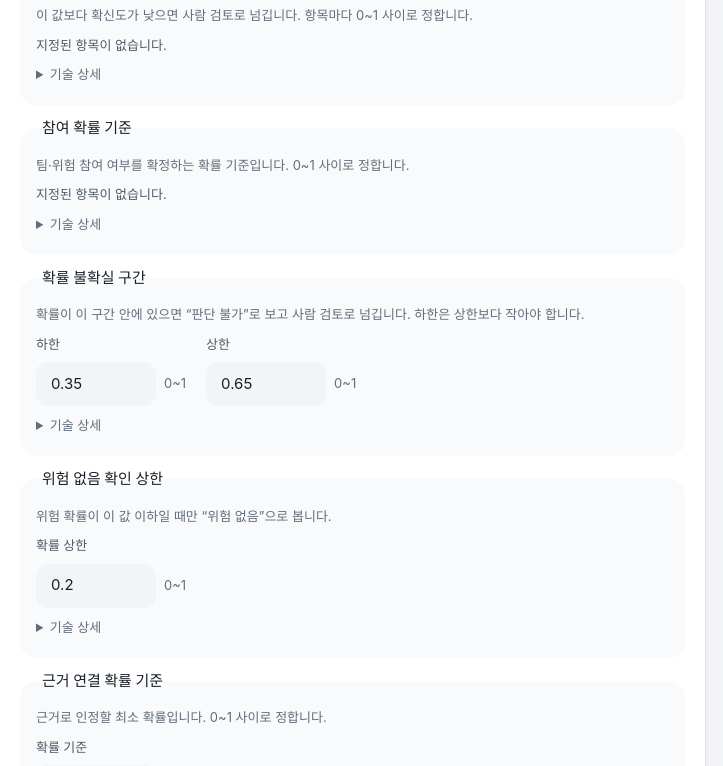
Test case: Policy page › field form › shows the allowed range and warns when the band is inverted
This screenshot has width=723, height=766.
(page scrolled)
Replace the text in the number field labelled "하한" with "0.9" at [96, 384], box top-left (36, 362), bottom-right (156, 406)
(page scrolled)
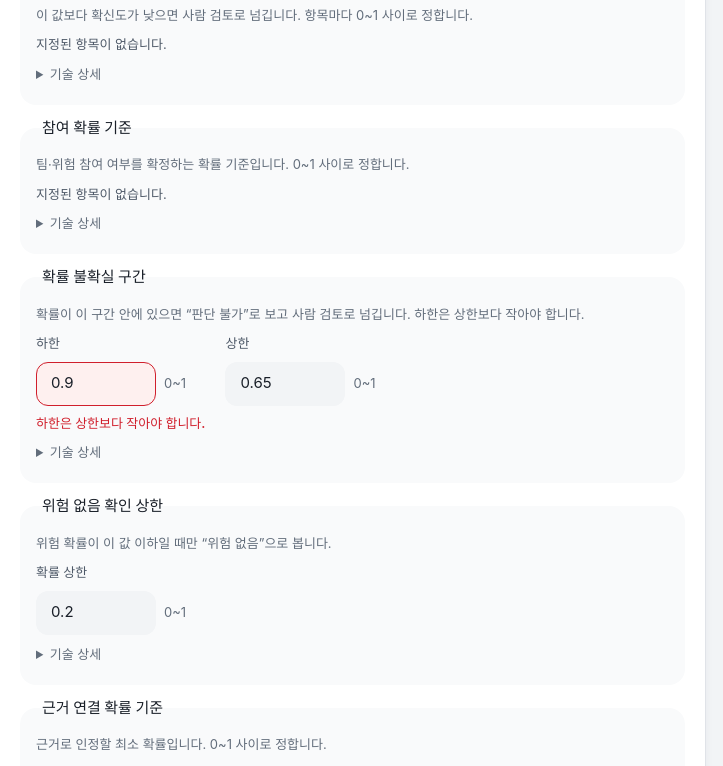
Expected: the 1st text "0~1" is shown, top-left (164, 374), bottom-right (186, 393)
Now the text "하한은 상한보다 작아야 합니다." is shown, box top-left (36, 414), bottom-right (206, 433)
